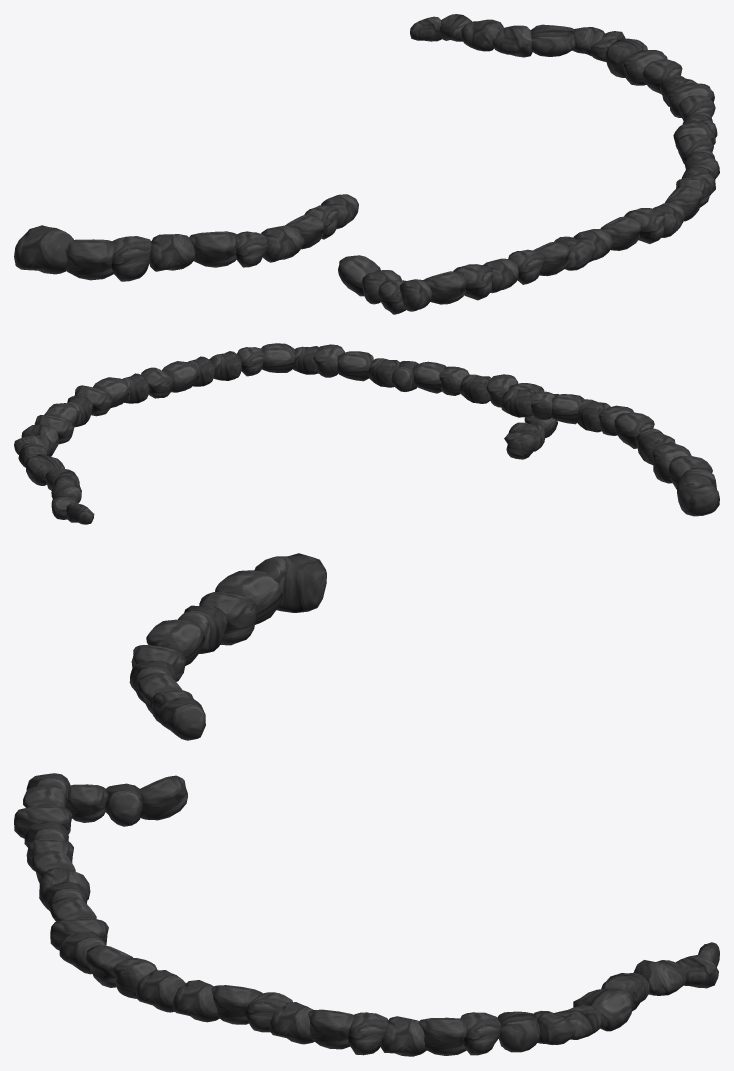
File: rootIslandRocksMainBorderShape1ÿÿÿÿÿÿÿrootIslandRocksMainBorder2rootIs.dae
3 views of the same model, one above another, from view 1: azimuth 30°, elevation 25°; view 2: azimuth 150°, elevation 25°; view 3: azimuth 270°, elevation 25° (orthographic). The views are drawn at different scales.
Parts seen in each view (by area): view 1: rootIslandRocksMainBorder1; view 2: rootIslandRocksMainBorder1; view 3: rootIslandRocksMainBorder1.
Boxes of the visible parts, x1=… form: rootIslandRocksMainBorder1: x1=14, y1=14, x2=719, y2=314; rootIslandRocksMainBorder1: x1=14, y1=343, x2=719, y2=524; rootIslandRocksMainBorder1: x1=14, y1=553, x2=719, y2=1056.
Size of the model in its own units: 160 by 18.91 by 110.
